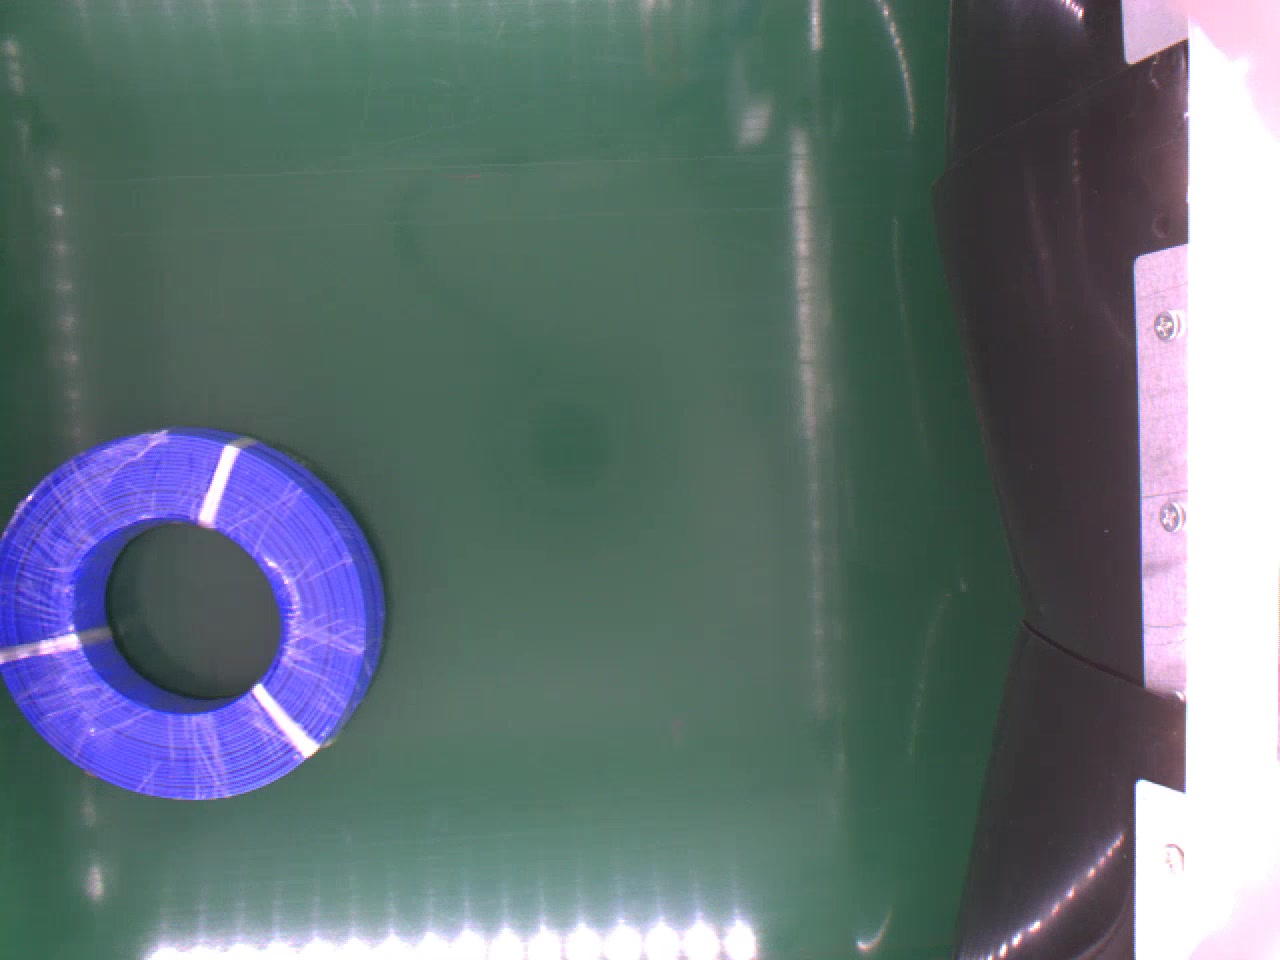blue: (0, 427, 384, 801)
